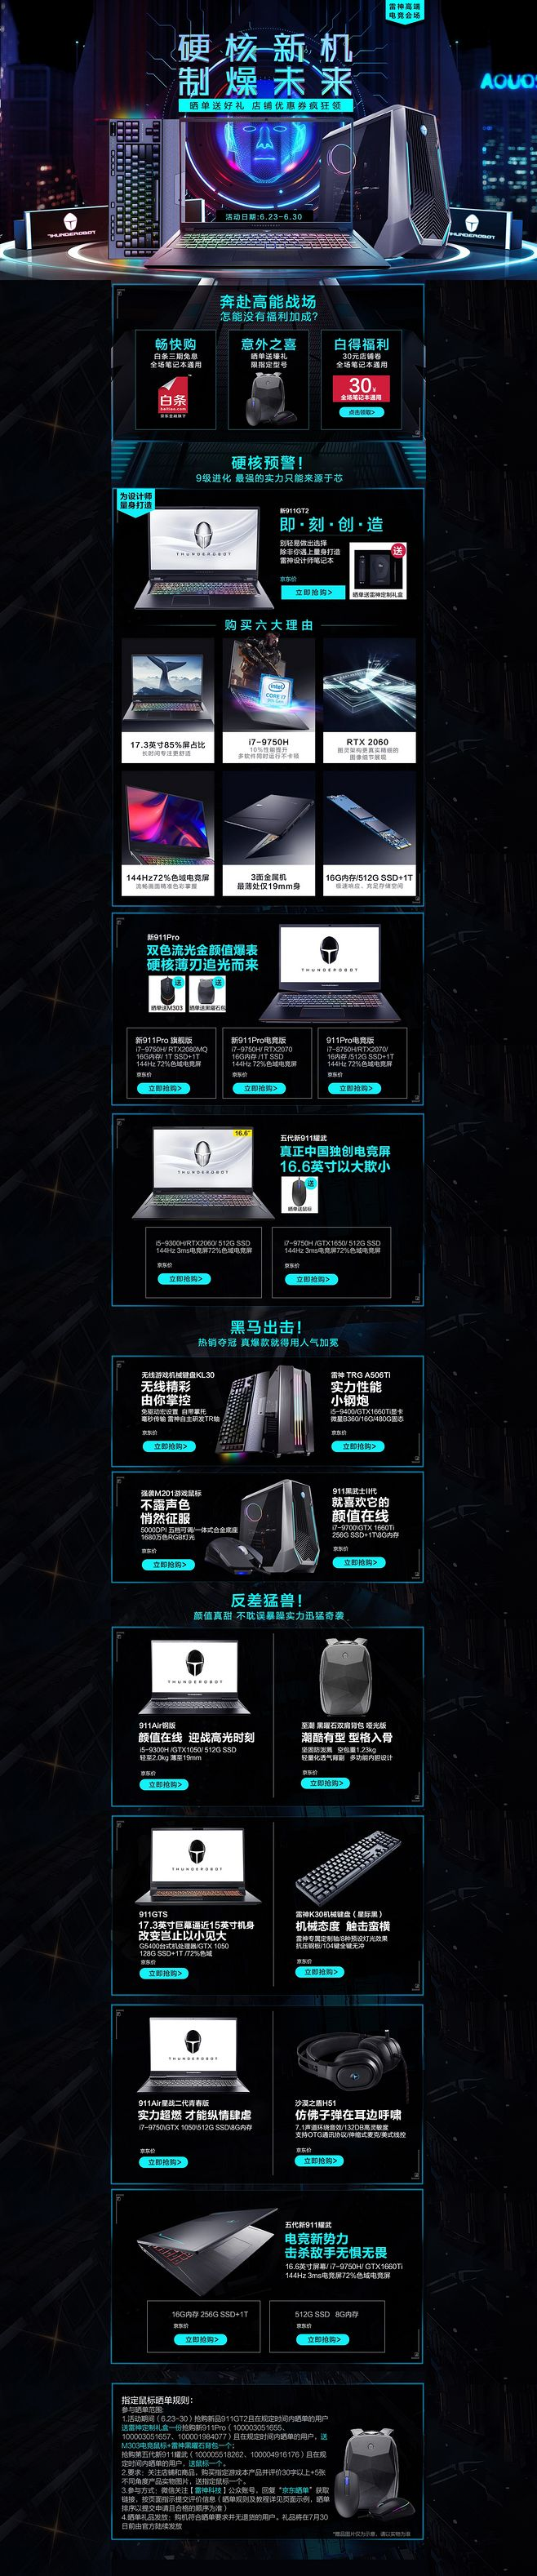floors: (0, 1592, 537, 2369), (0, 619, 537, 902), (2, 1314, 537, 1585), (2, 1109, 537, 1309), (0, 910, 537, 1109), (0, 2379, 537, 2546), (0, 448, 537, 611), (0, 286, 537, 437)
toutu: (0, 0, 537, 278)
